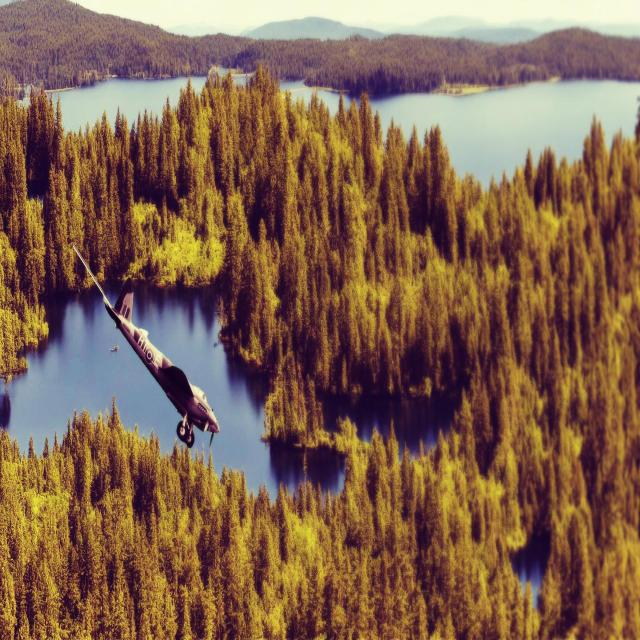airplane: (71, 243, 220, 449)
